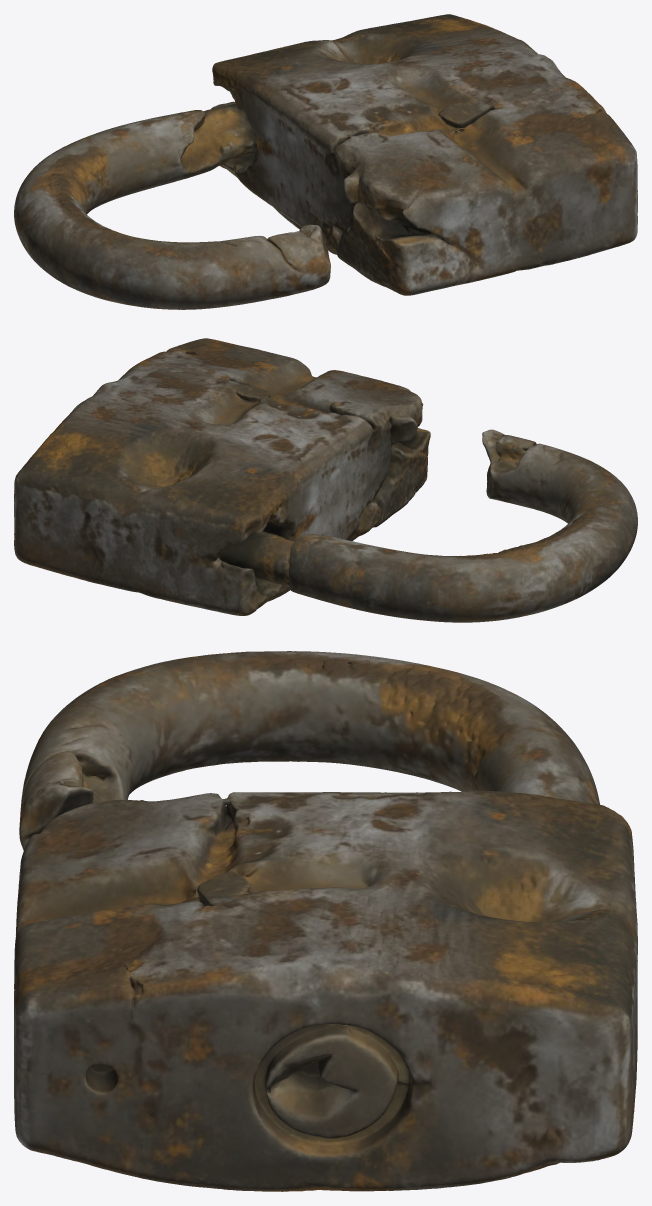
File: iron_padlock.glb
The picture shows the model from 3 angles, top to bottom: view 1: azimuth 30°, elevation 25°; view 2: azimuth 150°, elevation 25°; view 3: azimuth 270°, elevation 25°; orthographic projection. The views are drawn at different scales.
Visible parts, largest first — view 1: world; view 2: world; view 3: world.
Boxes of the visible parts, left/top/right/bottom form: world: left=14, top=14, right=637, bottom=309; world: left=14, top=338, right=637, bottom=622; world: left=14, top=651, right=637, bottom=1191.
Size of the model in its own units: 1 by 0.2647 by 0.6545.
Materials: 1 (1 with a texture image).
